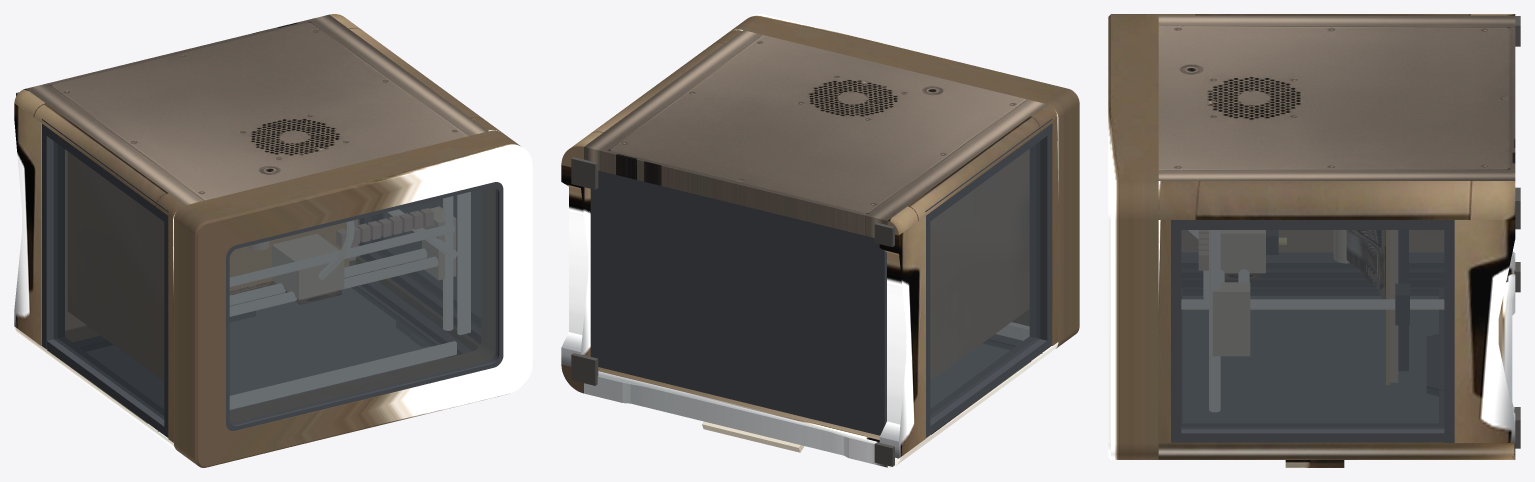
Rendered from deltrol_p2s_asset_pivot_v4.glb.
3 views of the same model, side by side, from view 1: azimuth 30°, elevation 25°; view 2: azimuth 150°, elevation 25°; view 3: azimuth 270°, elevation 25° (orthographic). The views are drawn at different scales.
Parts seen in each view (by area): view 1: unibody_top_frame, unibody_rear_wall, top_roof_glass, left_glass_window, interior_left_back_baffle, front_glass_door, top_rim_outer, unibody_left_skirt, left_gasket_bot, unibody_corner_1, led_bar_front, left_gasket_f (+18 smaller); view 2: chassis_underpan, unibody_rear_wall, left_glass_window, interior_left_back_baffle, unibody_top_frame, unibody_left_skirt, unibody_front_chin_skirt, left_gasket_top, unibody_right_skirt, unibody_corner_1, left_gasket_f, front_glass_door (+8 smaller); view 3: unibody_rear_wall, right_glass_window, front_glass_door, unibody_top_frame, unibody_corner_0, unibody_right_skirt, unibody_corner_3, right_gasket_f, unibody_right_top_beam, right_gasket_r, x_slider_right, right_gasket_bot (+18 smaller).
Part boxes in pixels (x1,y1,x2,y2): unibody_top_frame: [174, 130, 532, 467]; unibody_rear_wall: [26, 14, 488, 205]; top_roof_glass: [229, 186, 497, 425]; left_glass_window: [53, 141, 164, 419]; interior_left_back_baffle: [68, 152, 163, 380]; front_glass_door: [82, 287, 446, 409]; top_rim_outer: [226, 182, 503, 430]; unibody_left_skirt: [14, 103, 41, 345]; left_gasket_bot: [42, 124, 64, 349]; unibody_corner_1: [14, 88, 184, 219]; led_bar_front: [230, 341, 456, 409]; left_gasket_f: [47, 337, 167, 436]; chassis_underpan: [590, 170, 886, 435]; unibody_rear_wall: [584, 30, 1046, 237]; left_glass_window: [930, 141, 1040, 419]; interior_left_back_baffle: [931, 150, 1028, 379]; unibody_top_frame: [731, 14, 1079, 348]; unibody_left_skirt: [879, 216, 925, 458]; unibody_front_chin_skirt: [584, 367, 887, 467]; left_gasket_top: [1030, 132, 1051, 346]; unibody_right_skirt: [561, 165, 590, 366]; unibody_corner_1: [887, 104, 1058, 235]; left_gasket_f: [930, 337, 1051, 434]; front_glass_door: [931, 342, 1010, 407]; unibody_rear_wall: [1158, 15, 1515, 180]; right_glass_window: [1181, 230, 1444, 429]; front_glass_door: [1183, 293, 1438, 422]; unibody_top_frame: [1108, 14, 1158, 459]; unibody_corner_0: [1158, 181, 1515, 219]; unibody_right_skirt: [1454, 220, 1515, 442]; unibody_corner_3: [1158, 442, 1515, 459]; right_gasket_f: [1171, 424, 1444, 442]; unibody_right_top_beam: [1158, 220, 1170, 442]; right_gasket_r: [1171, 220, 1453, 229]; x_slider_right: [1213, 283, 1249, 355]; right_gasket_bot: [1444, 220, 1454, 442].
Bounding box in the file's own units: 0.418 × 0.3108 × 0.395.
Materials: 25 (15 with a texture image).
